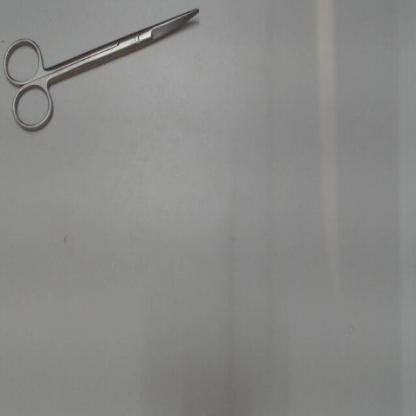Curved Mayo Scissors: (2, 3, 206, 140)
